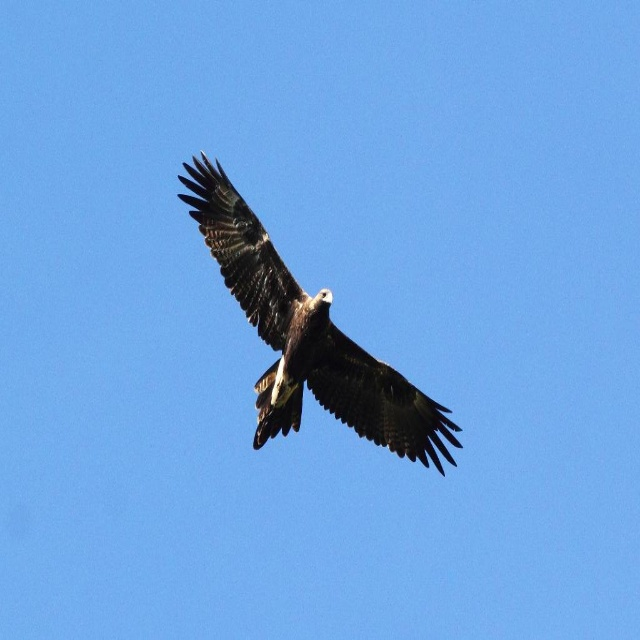Eagle: (175, 145, 466, 480)
